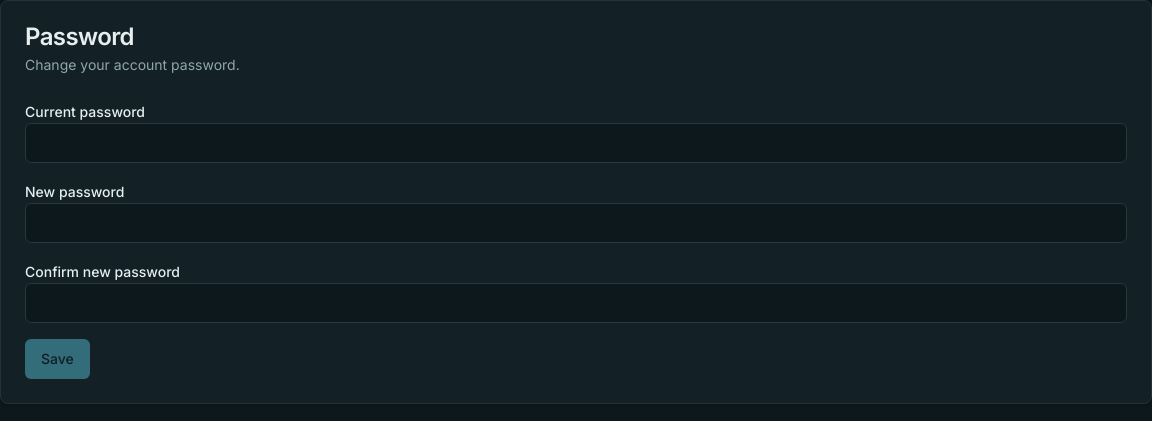
Test: PasswordCard › disables the save button until the form is valid
This screenshot has width=1152, height=421.
Expected: the button "Save" is disabled, [25,339,90,379]
Type "OldPassw0rd!!" into the password field labelled "Current password" at (576,143), box [25,123,1127,163]
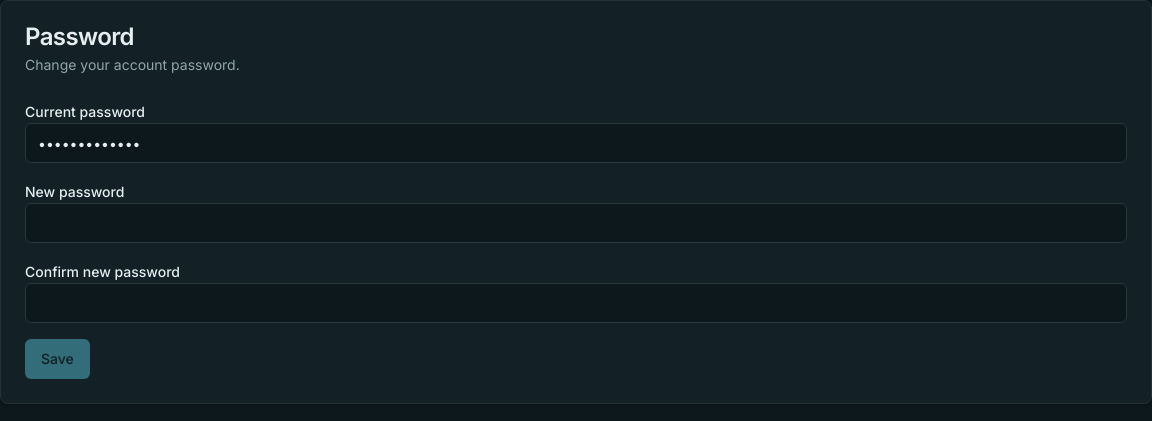
Type "NewPassw0rd!!" into the password field labelled "New password" at (576,223), box [25,203,1127,243]
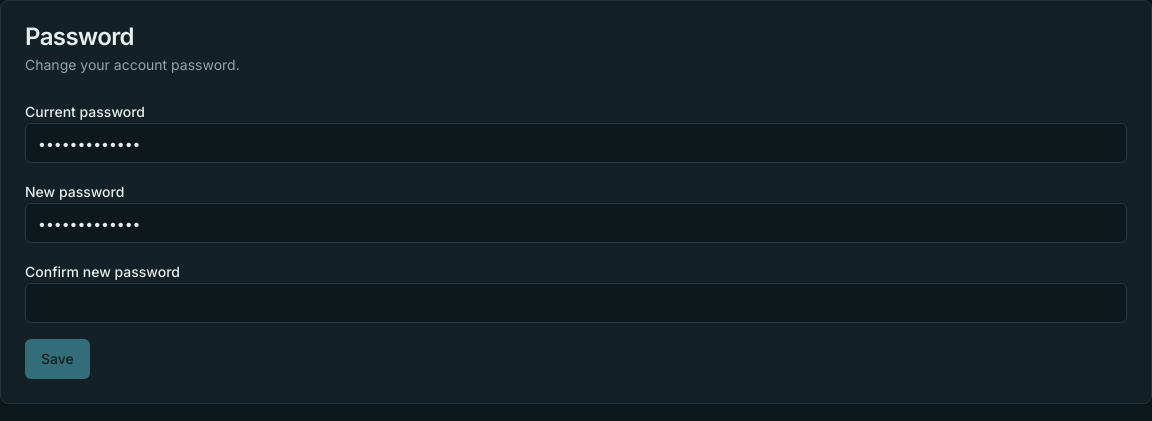
Type "NewPassw0rd!!" into the password field labelled "Confirm new password" at (576,303), box [25,283,1127,323]
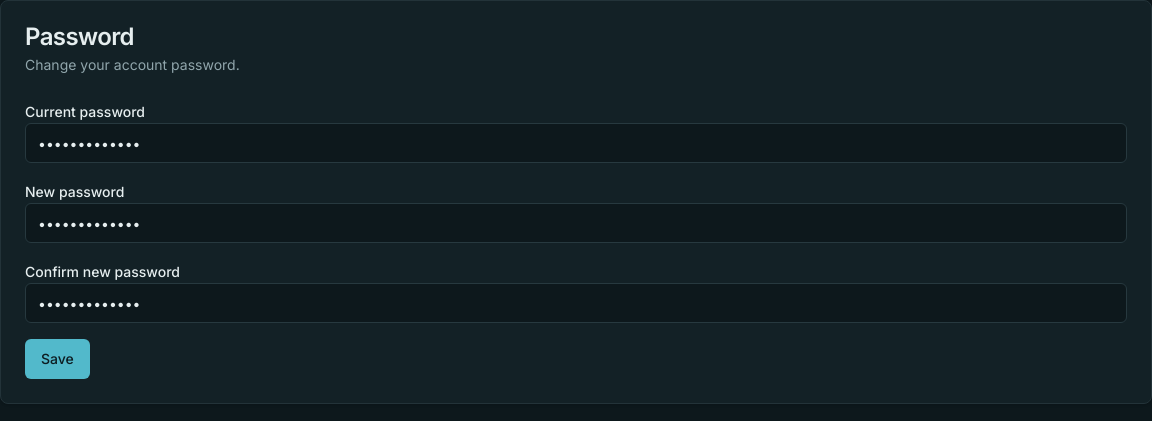
Result: the button "Save" is enabled at [25,339,90,379]
